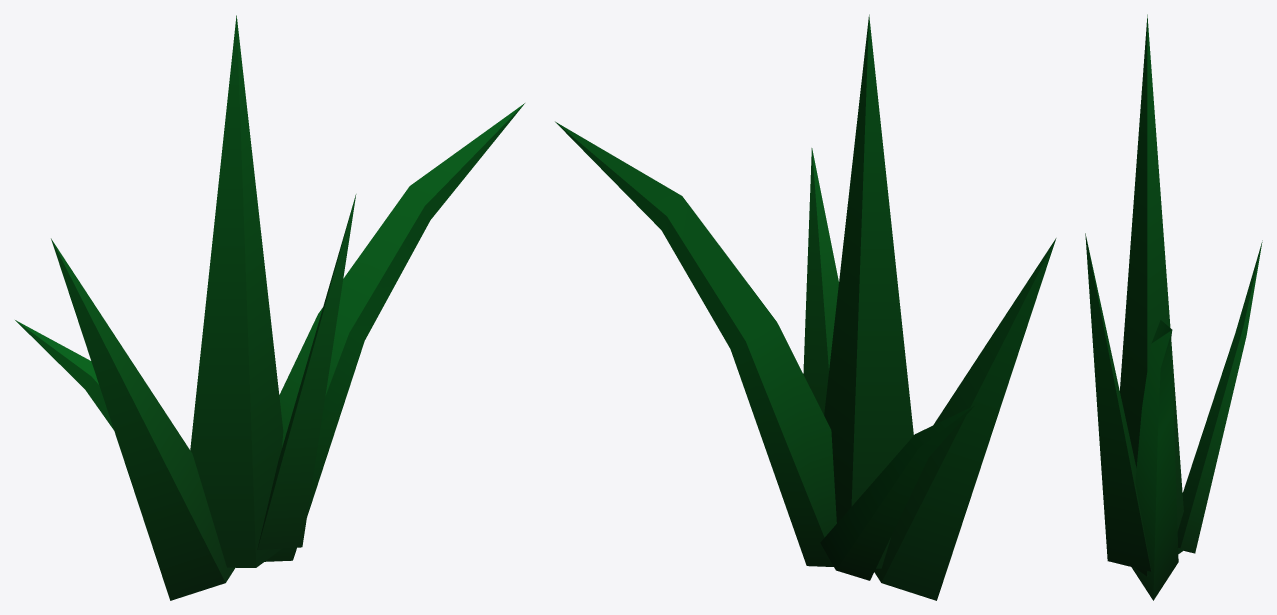
The model's file is Grass 1.fbx.
The picture shows the model from 3 angles, left to right: view 1: azimuth 30°, elevation 25°; view 2: azimuth 150°, elevation 25°; view 3: azimuth 270°, elevation 25°; orthographic projection.
Visible parts, largest first — view 1: pCone27; view 2: pCone27; view 3: pCone27.
Boxes of the visible parts, box(x1,y1,x2,y2) form: pCone27: box(15, 15, 524, 600); pCone27: box(555, 14, 1056, 600); pCone27: box(1085, 14, 1262, 600).
Bounding box in the file's own units: 2.09 × 2.34 × 0.6651.
